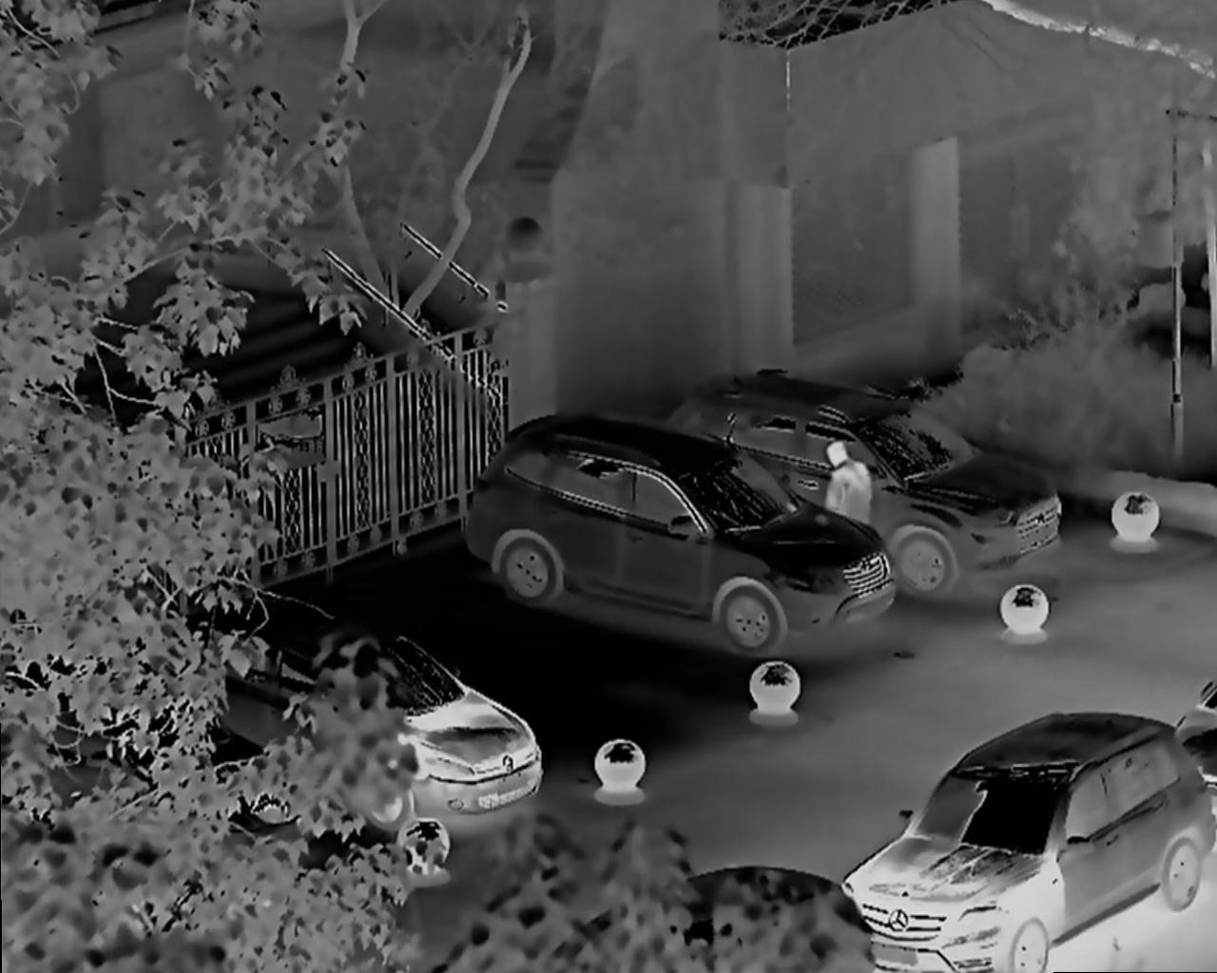person: (821, 440, 874, 531)
